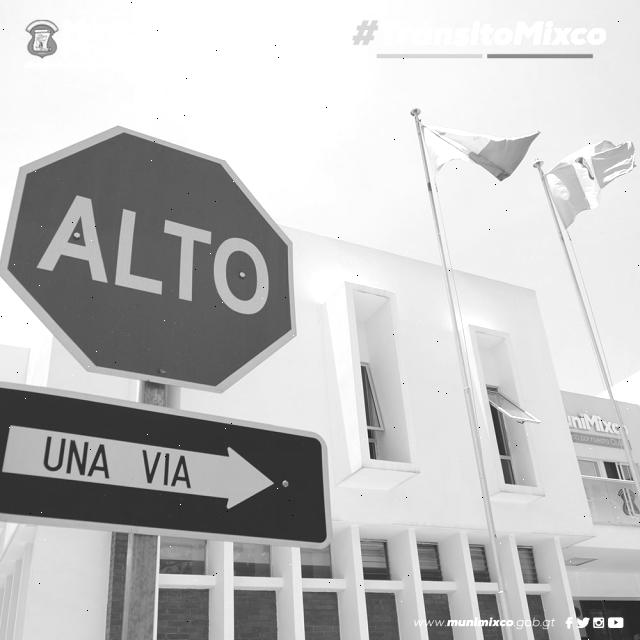Stop-sign: (2, 111, 316, 402)
